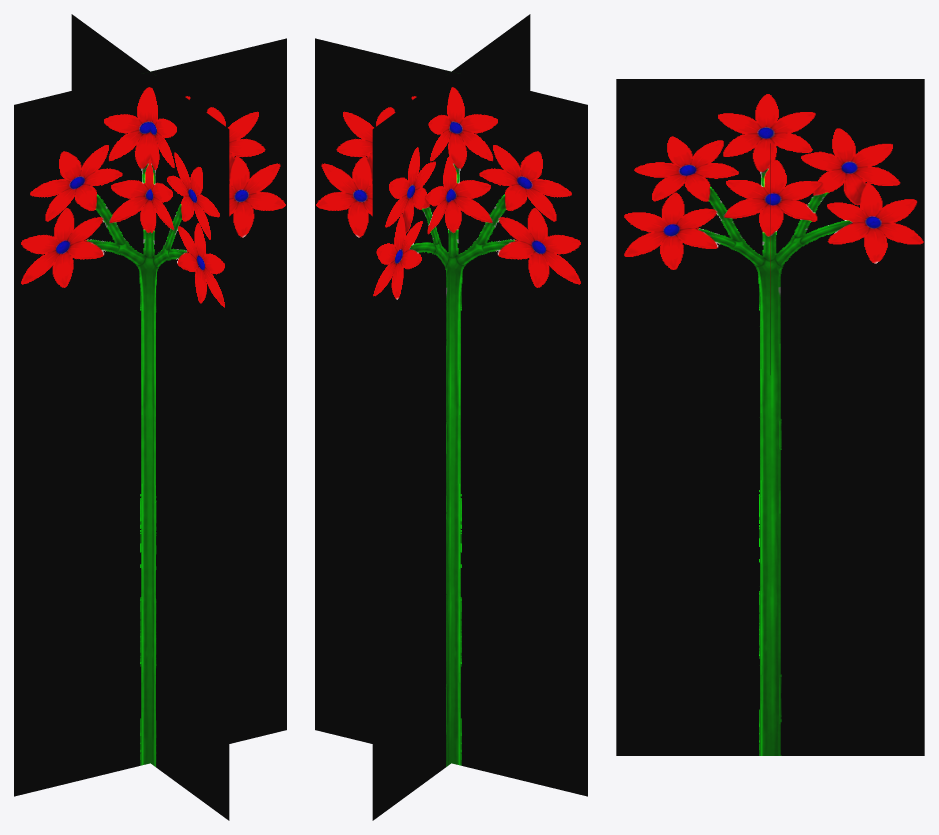
File: Flower01.fbx
3 renders of one model, left to right at view 1: azimuth 30°, elevation 25°; view 2: azimuth 150°, elevation 25°; view 3: azimuth 270°, elevation 25°, orthographic. The views are drawn at different scales.
Parts seen in each view (by area): view 1: Flower01_LOD0; view 2: Flower01_LOD0; view 3: Flower01_LOD0.
Boxes of the visible parts, x1,y1,x2,y2 form: Flower01_LOD0: [14, 14, 286, 820]; Flower01_LOD0: [315, 14, 587, 820]; Flower01_LOD0: [616, 79, 924, 755].
Size of what is drawn, in the model's own units: 0.1797 by 0.4354 by 0.1797.
